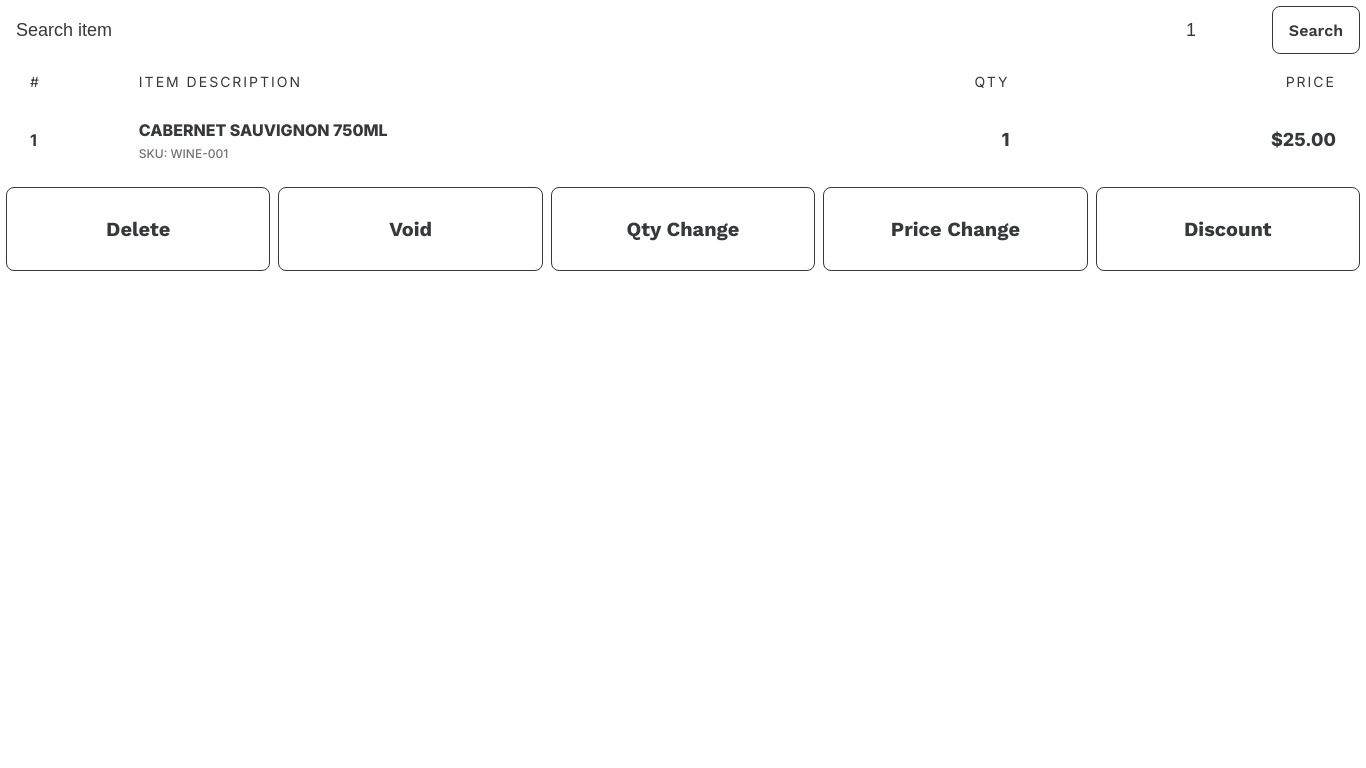
Scenario: TicketPanel › shows original price from base db price in price modal
Click the button "Price Change" at (955, 229), box 823,187 -> 1088,271
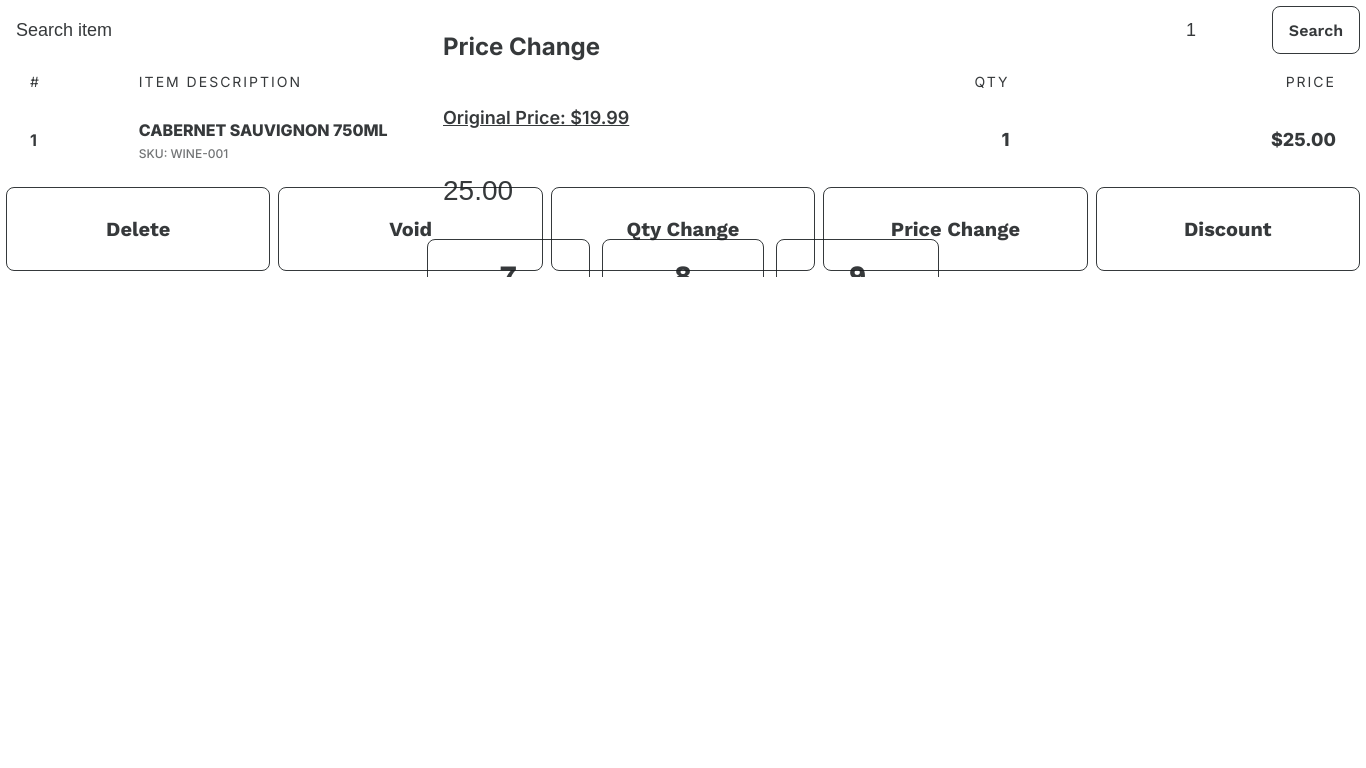
Check: the button "Original Price: $19.99" is shown, box 443,104 -> 629,133
